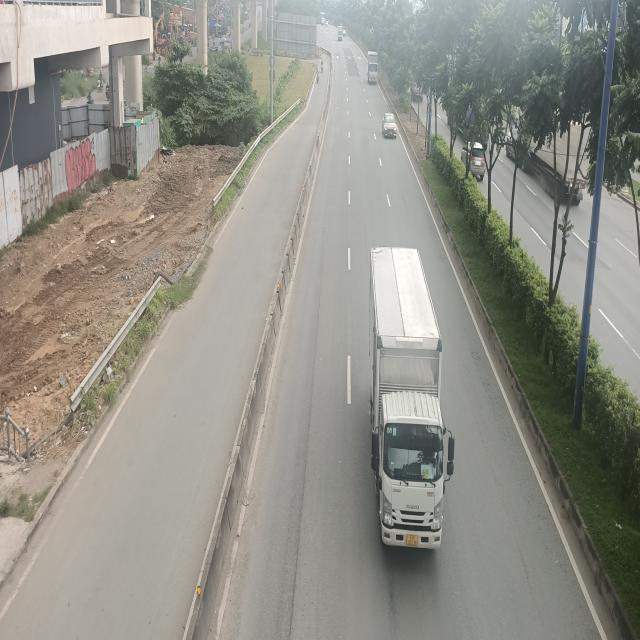truck: (371, 249, 460, 559)
